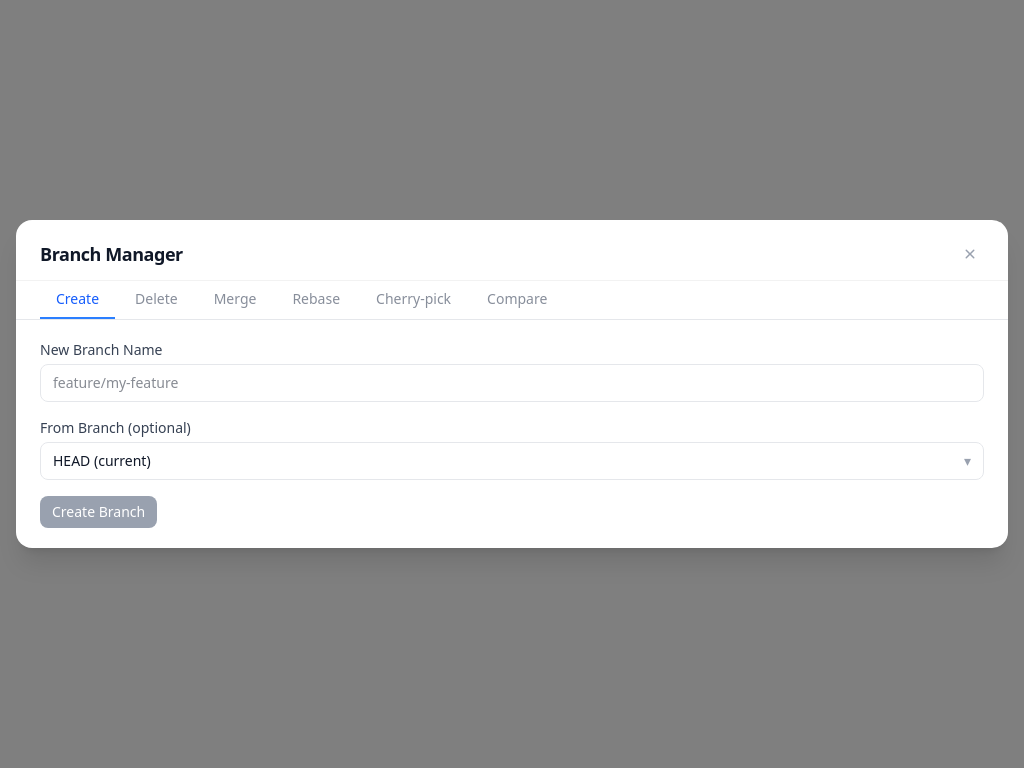
BranchManager compare tab › enables Compare after picking only branch B (branch A defaults to current)
Click the tab "Compare".
click(517, 300)  # box [471,281,563,319]
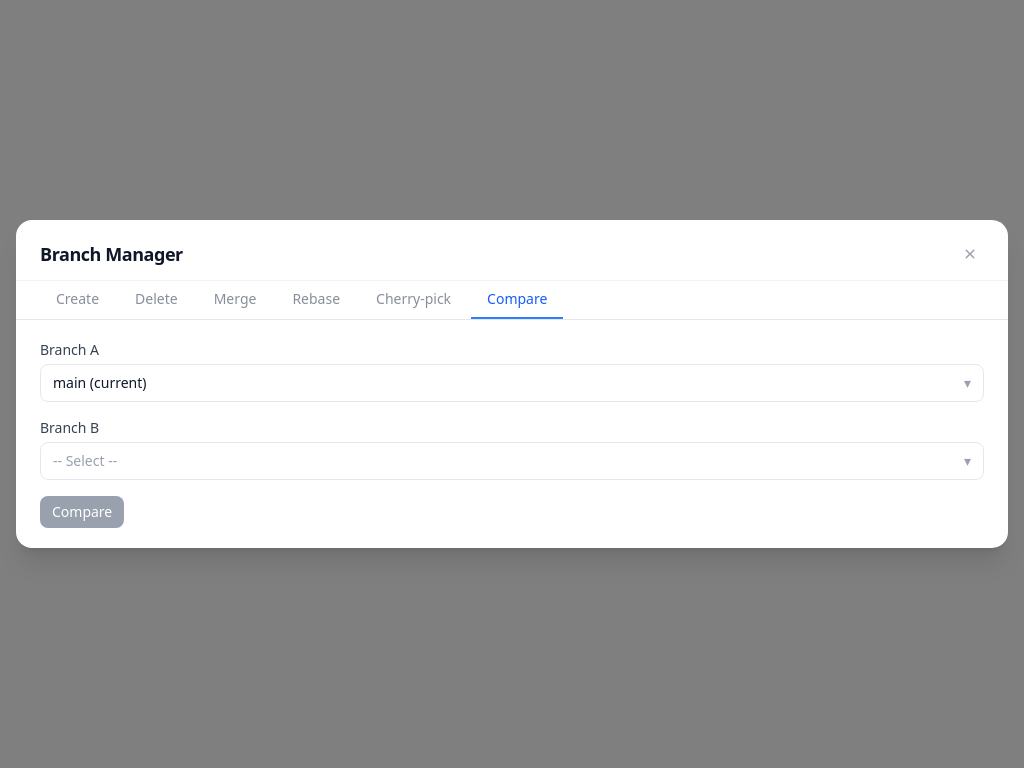
expect the button "Compare" is disabled: met, box [40,496,124,528]
Click the button with aria-label "Branch B".
click(85, 460)  # box [40,442,984,480]
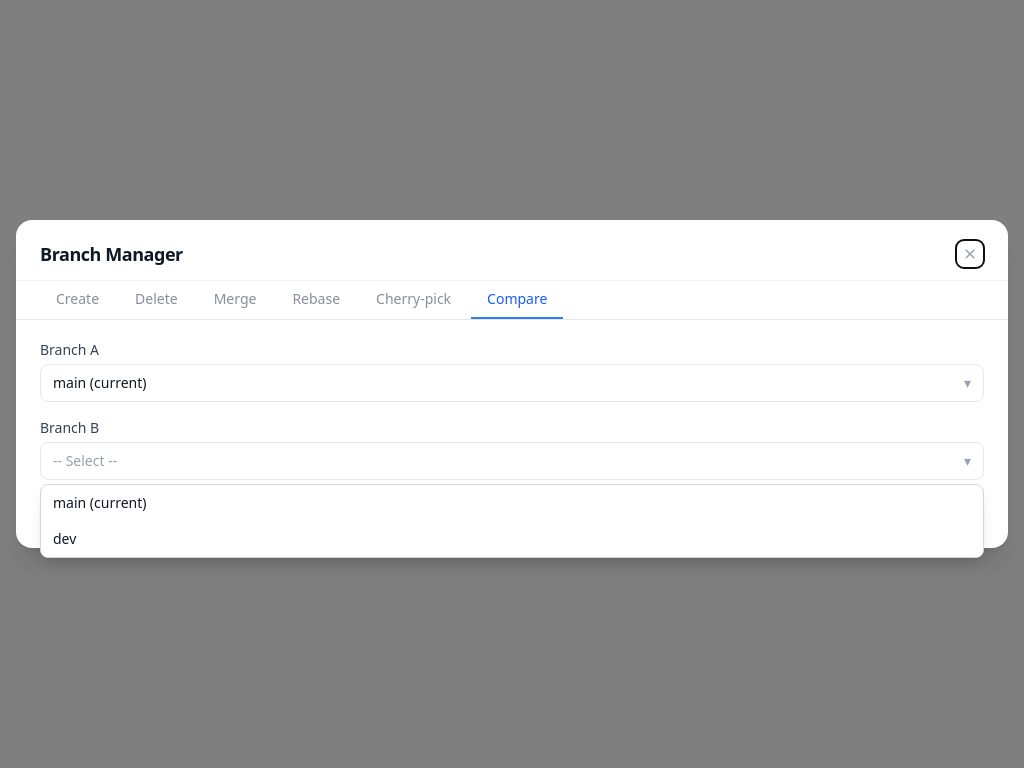
Click the option "dev".
click(65, 538)  # box [41,521,983,557]
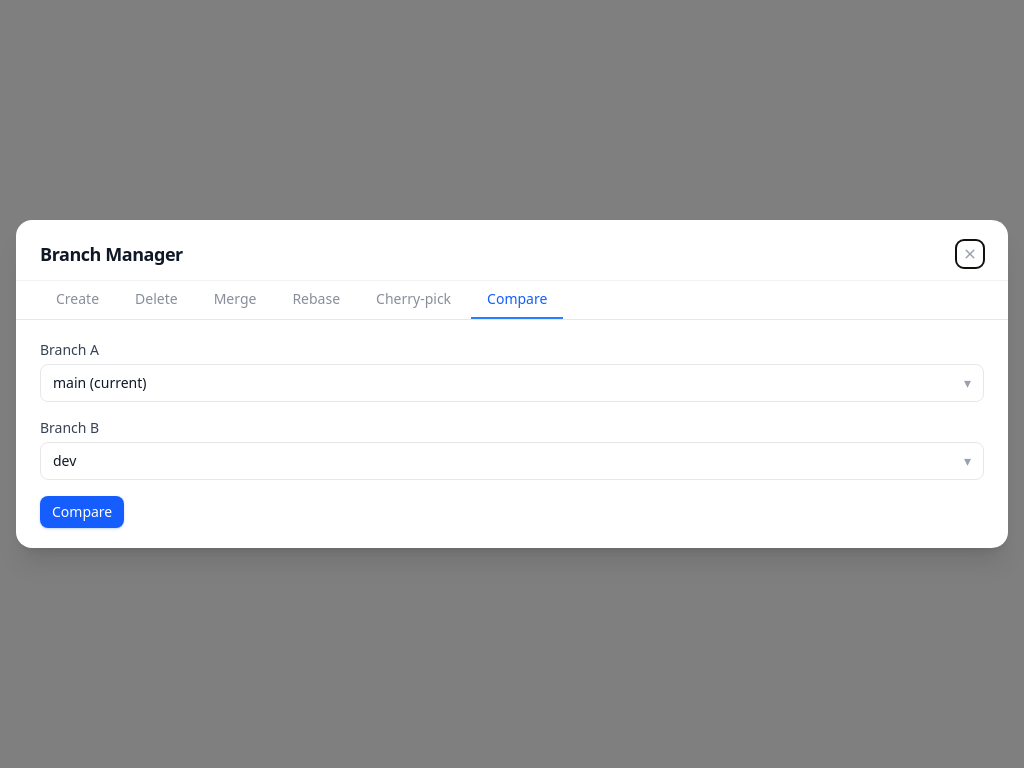
expect the button "Compare" is enabled: met, box [40,496,124,528]
